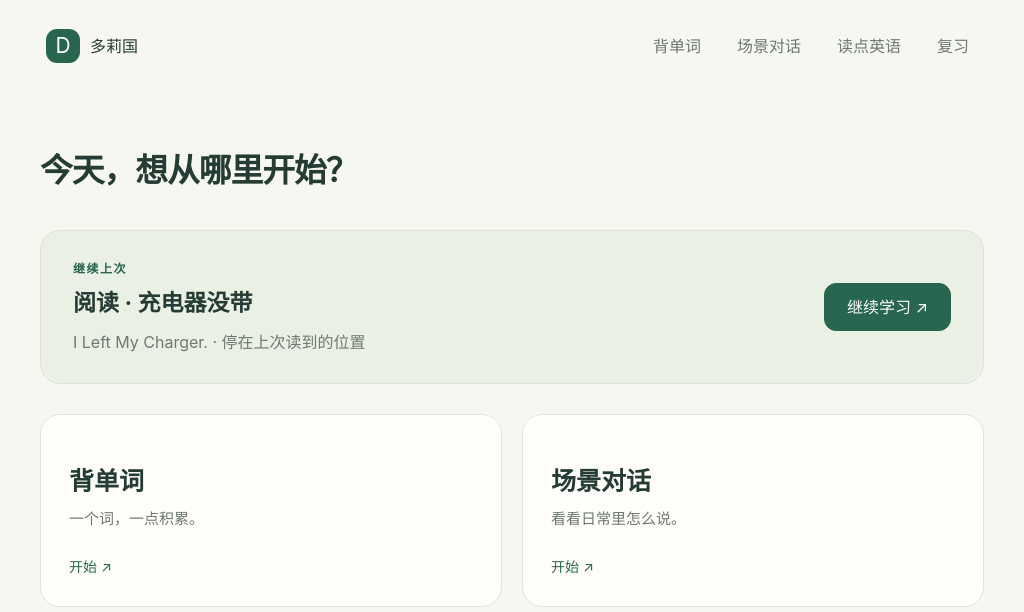
it: opens later incremental reading reading-left-my-charger from home resume
This screenshot has width=1024, height=612.
Click the button "继续学习 ↗" at (888, 307), box [824,283,951,332]
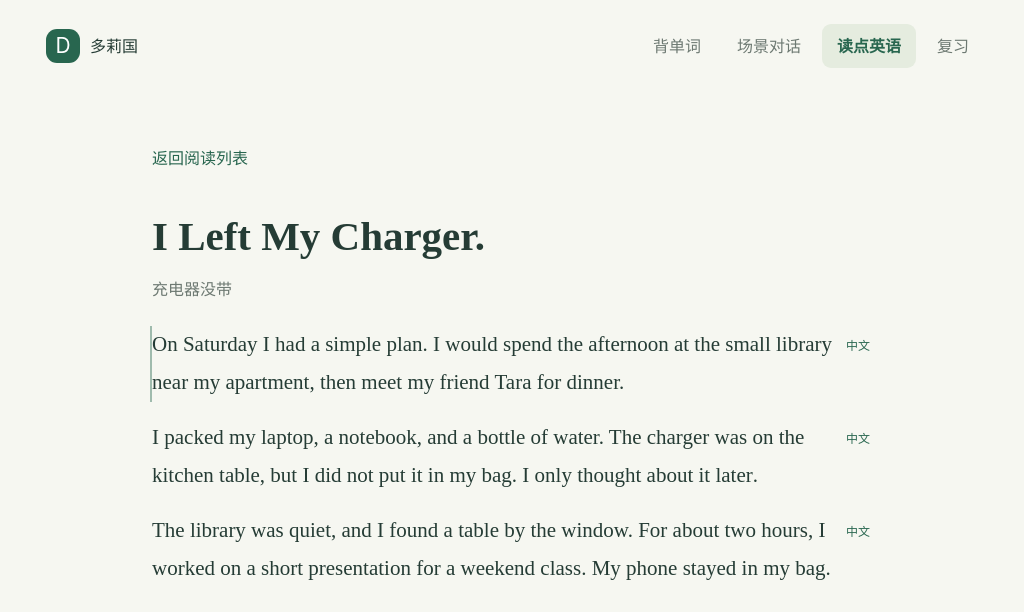
Now the heading "I Left My Charger." is shown, box [152,213,485,259]
